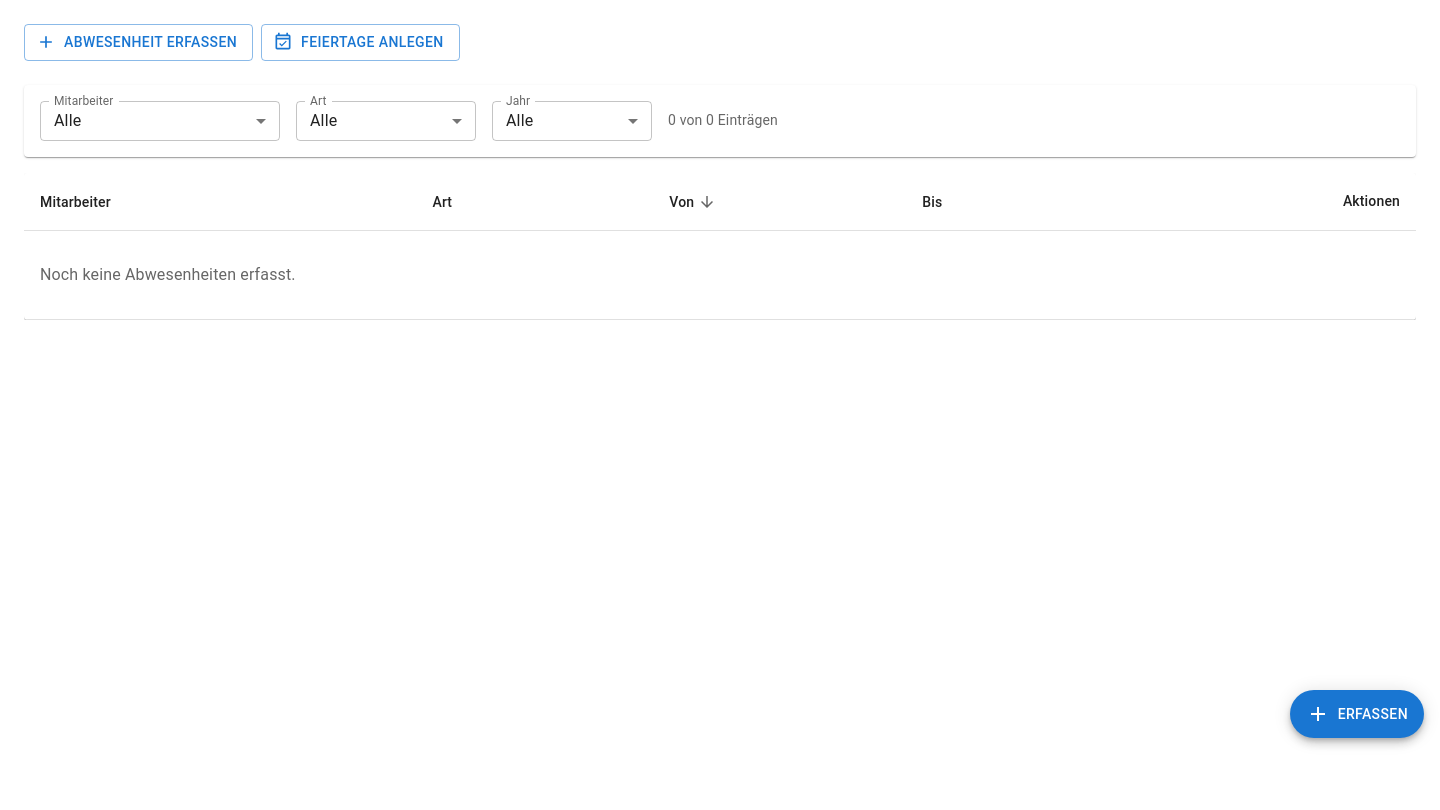
Test: AbsencesView › with a branch selected › opens AbsenceDialog with only active employees as its employee picker
Expected: the text "Noch keine Abwesenheiten erfasst." is shown, x1=40 y1=265 x2=296 y2=284
Click the button "Abwesenheit erfassen": (139, 42) x1=24 y1=24 x2=253 y2=60
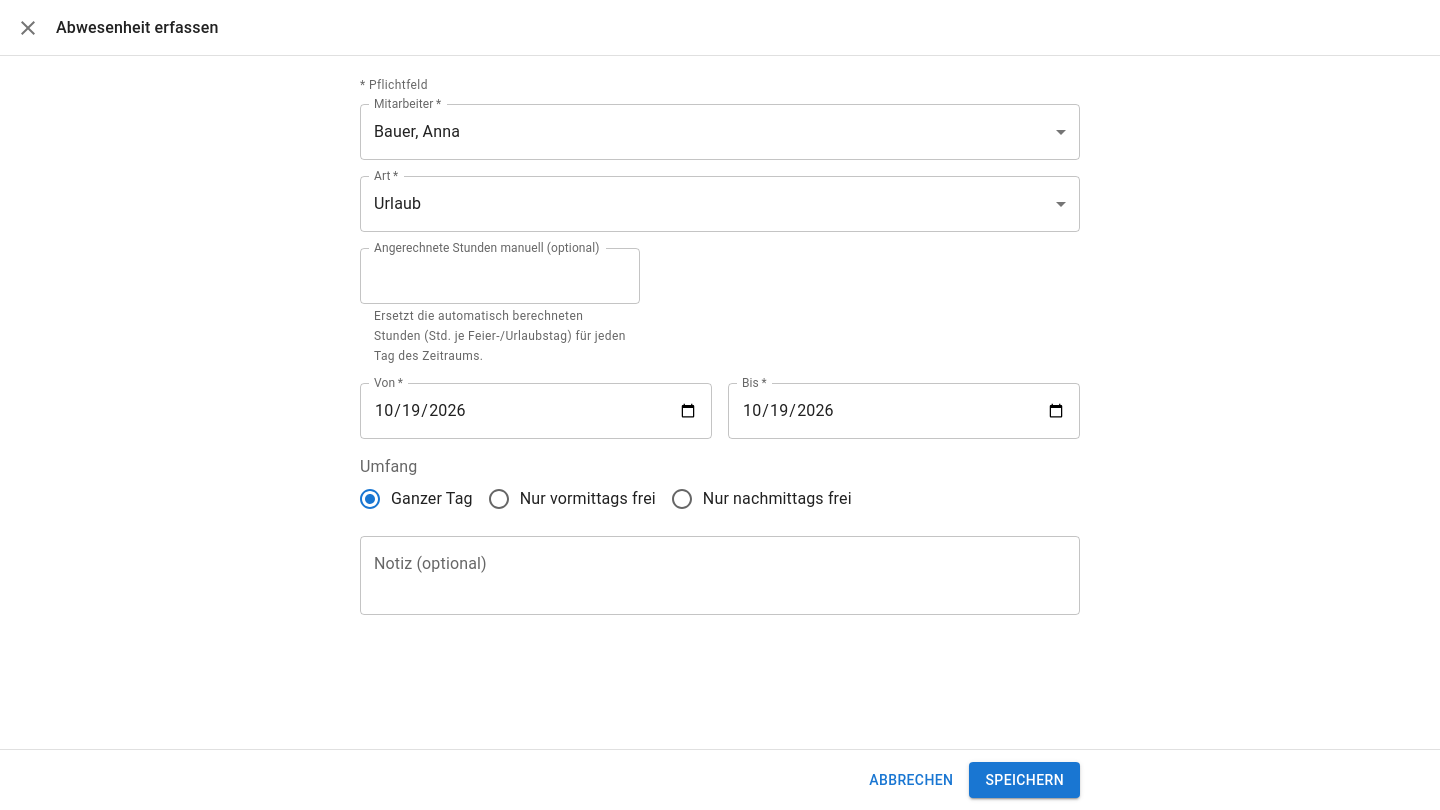
Click the dropdown named "Mitarbeiter": (417, 132) x1=374 y1=122 x2=460 y2=141
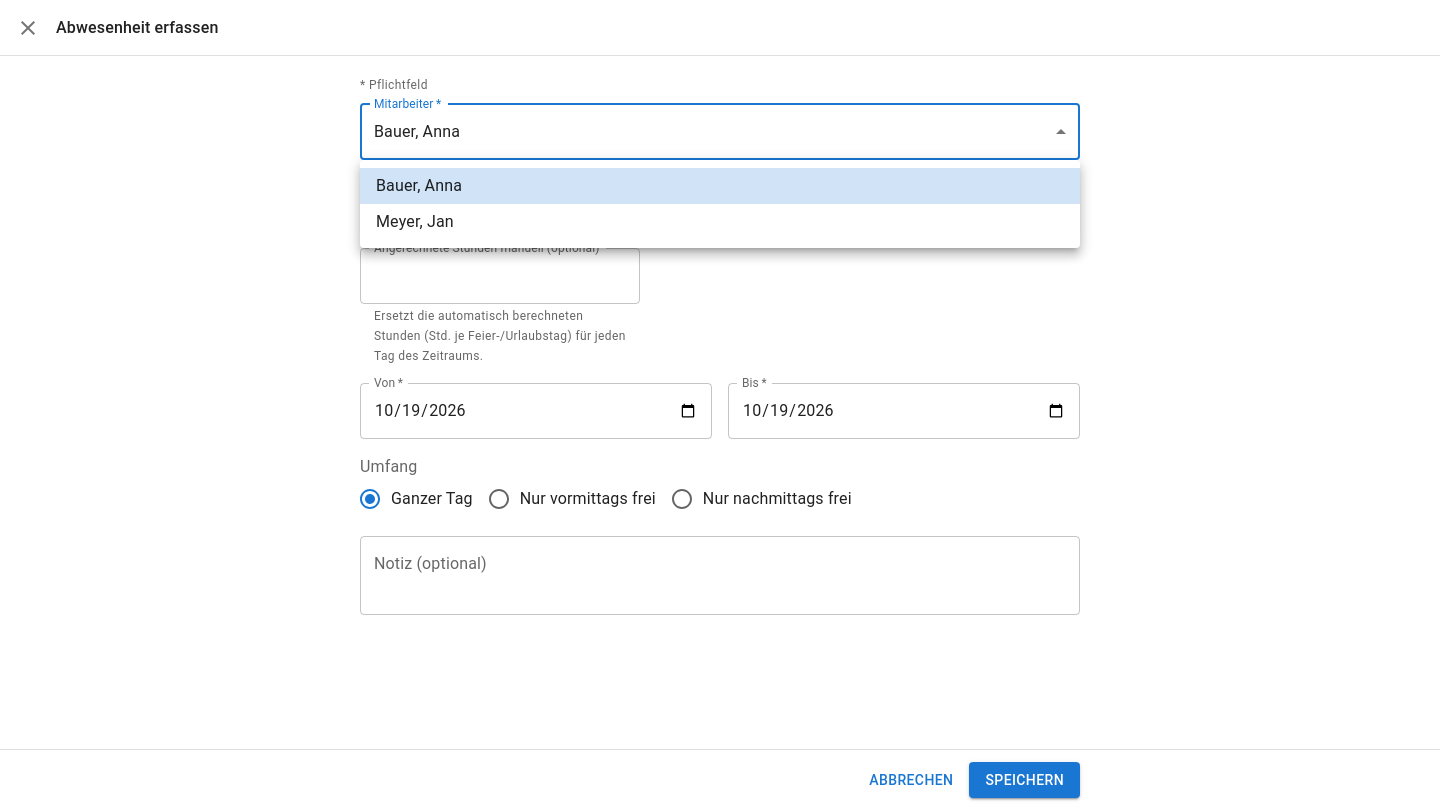
Result: the options read "Bauer, Anna", "Meyer, Jan", in this order at x1=360 y1=168 x2=1080 y2=204; x1=376 y1=212 x2=454 y2=231
